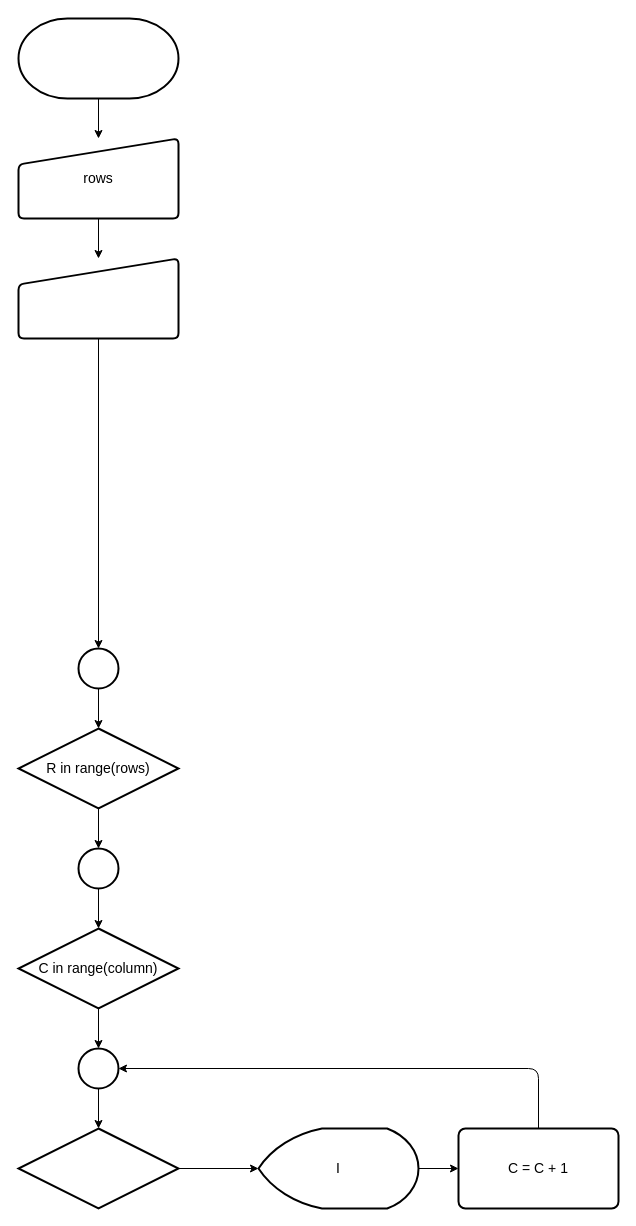
Some shapes in this 636 by 1226 pixel diagram are drawn without their labels. Here are the shapes that lost their labels. From the top down, the box of each, then its label:
(17, 17, 179, 99): Start
(17, 257, 179, 339): column
(17, 1127, 179, 1209): I in range(1,100,1)
